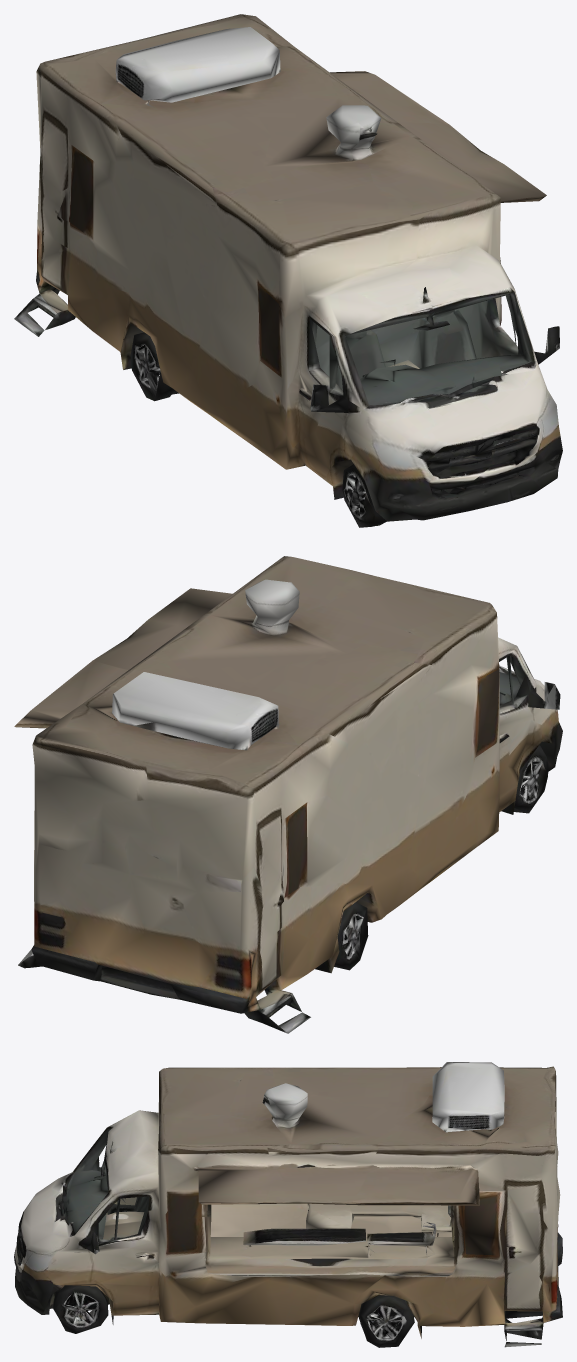
File: food-truck.glb
3 views of the same model, one above another, from view 1: azimuth 30°, elevation 25°; view 2: azimuth 150°, elevation 25°; view 3: azimuth 270°, elevation 25° (orthographic). The views are drawn at different scales.
Visible parts, largest first — view 1: tripo_node_7d2051b3-c374-4fb2-9318-afdbccbcb90b; view 2: tripo_node_7d2051b3-c374-4fb2-9318-afdbccbcb90b; view 3: tripo_node_7d2051b3-c374-4fb2-9318-afdbccbcb90b.
Boxes of the visible parts, x1,y1,x2,y2 form: tripo_node_7d2051b3-c374-4fb2-9318-afdbccbcb90b: (14,14,562,527); tripo_node_7d2051b3-c374-4fb2-9318-afdbccbcb90b: (14,556,562,1033); tripo_node_7d2051b3-c374-4fb2-9318-afdbccbcb90b: (14,1062,562,1347).
Size of the model in its own units: 0.5208 by 0.476 by 0.999.
1 material, 1 textured.
